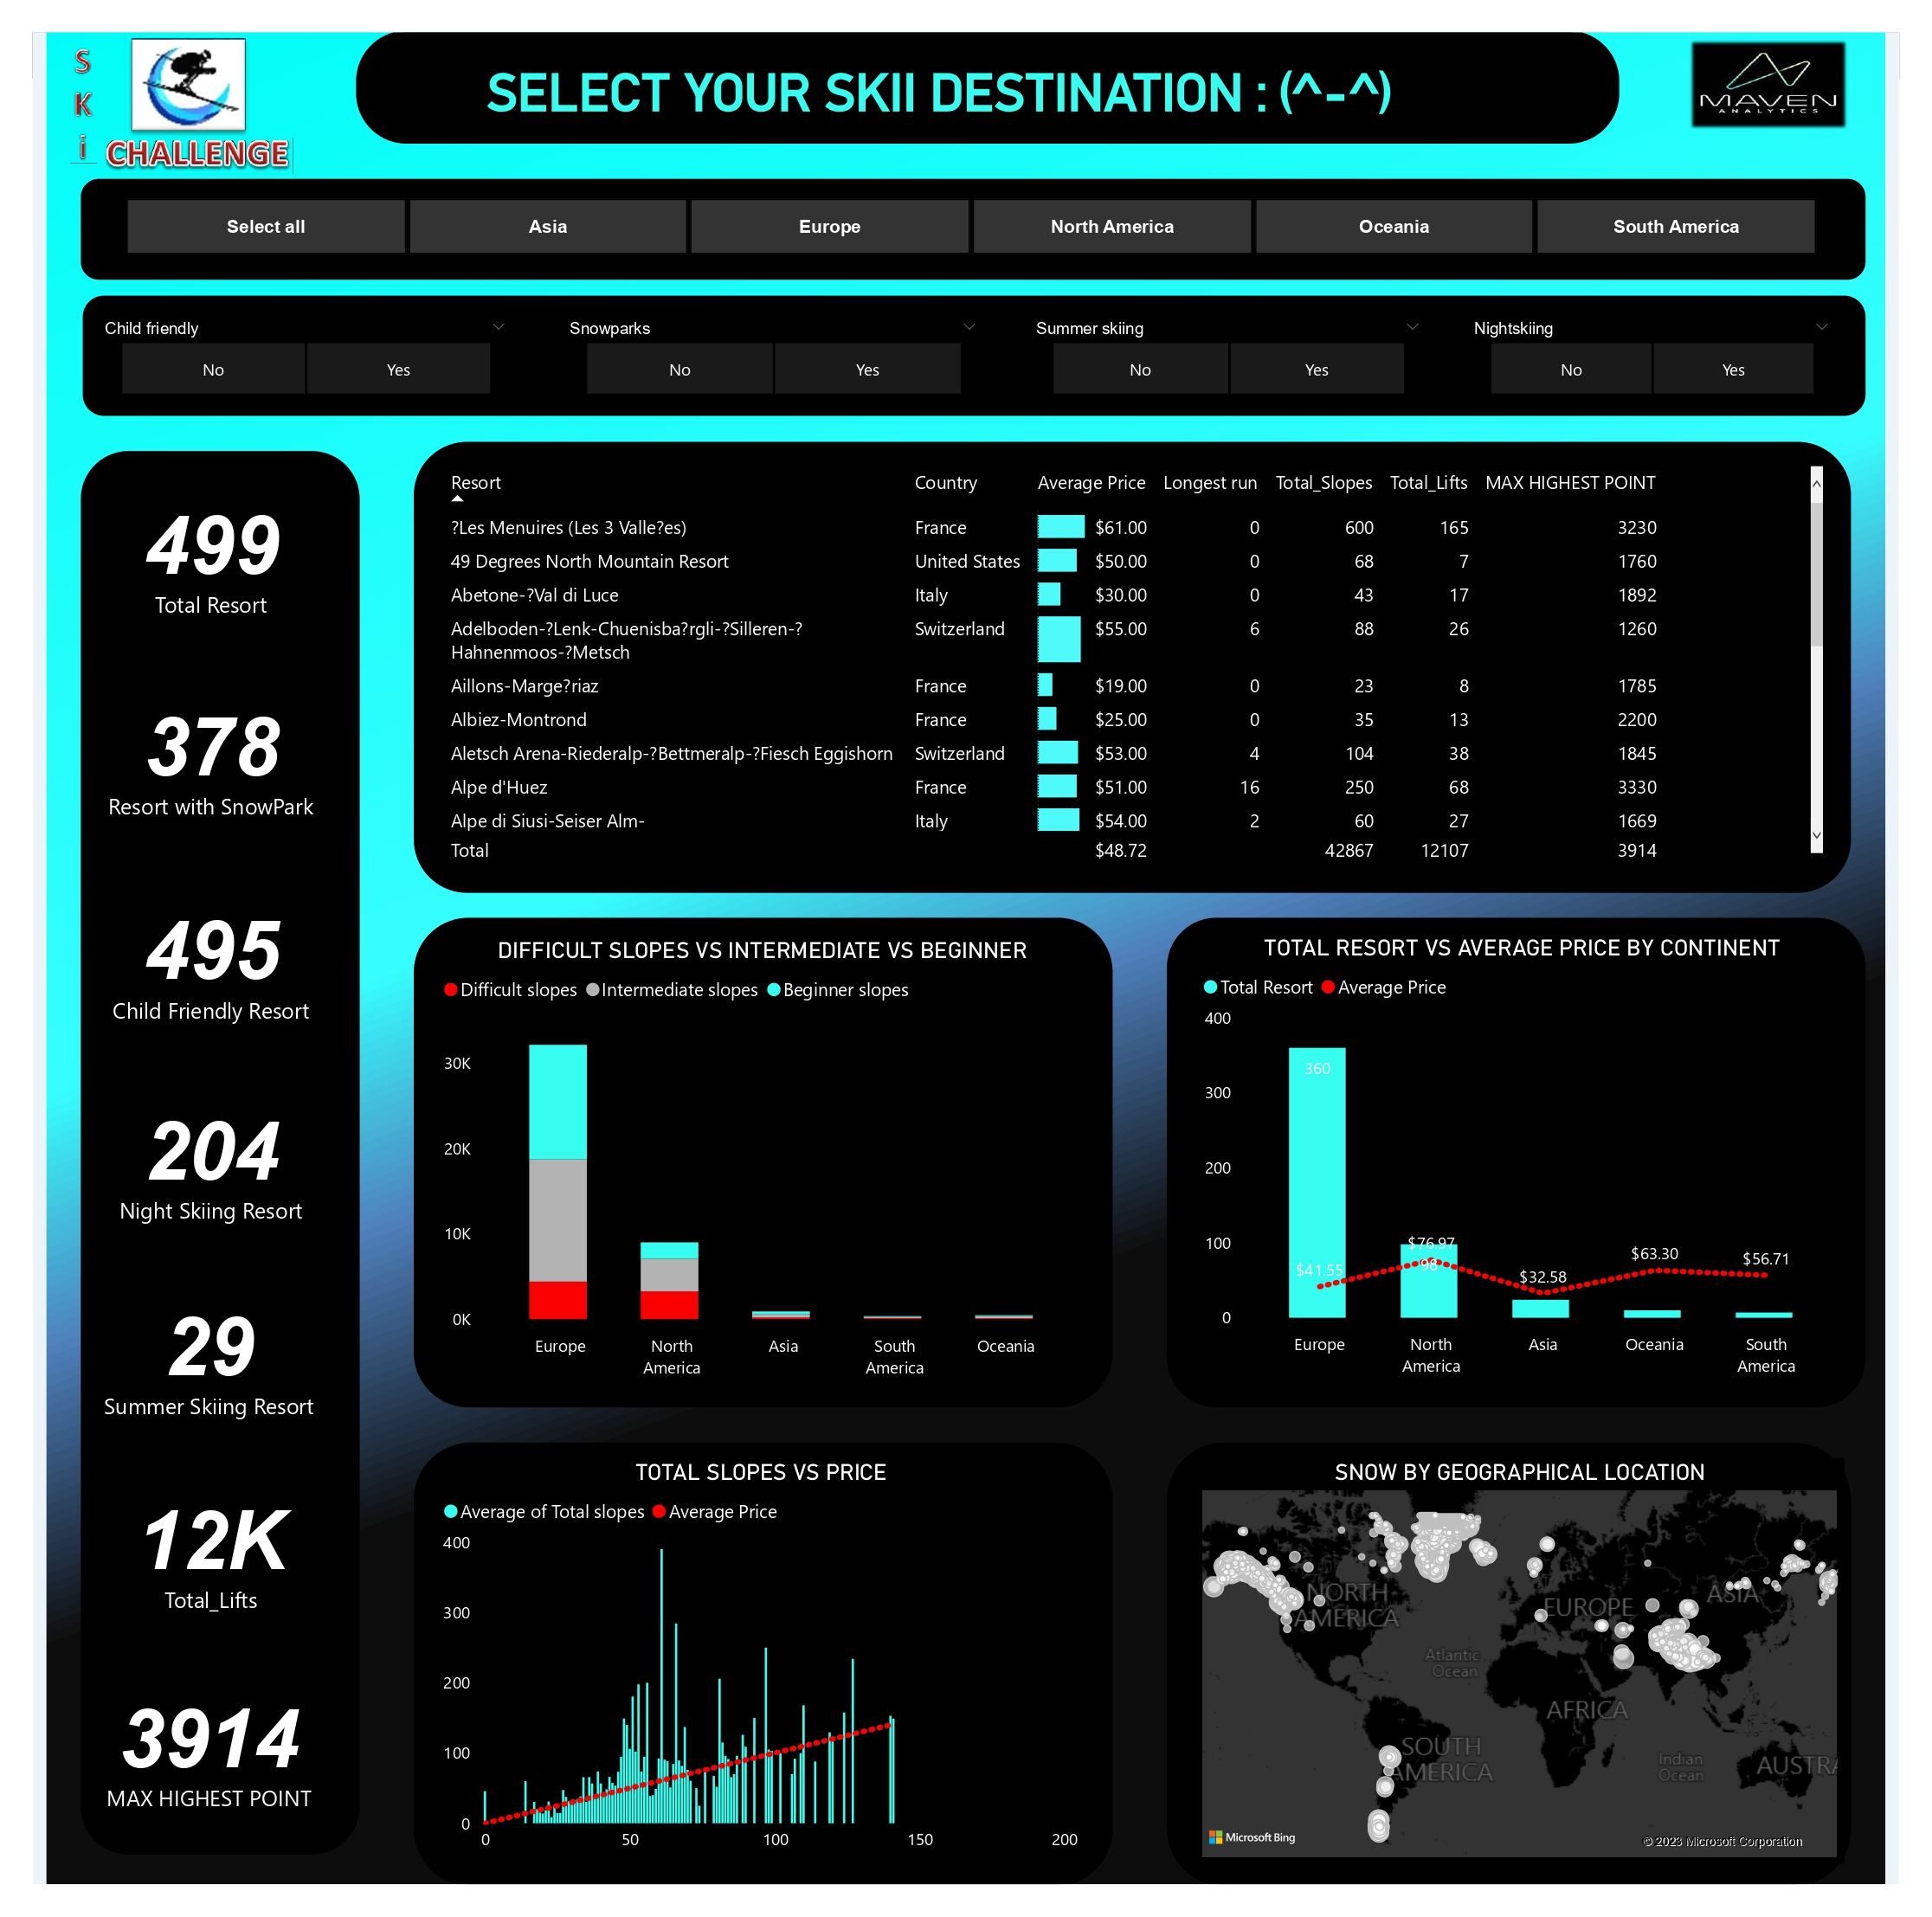

Layout of this report page (visuals, bound fields, positions):
{"tool":"powerbi","page":{"name":"Page 1","canvas":[1380,1370],"ordinal":0},"visuals":[{"type":"map","title":"SNOW BY GEOGRAPHICAL LOCATION","fields":{"Y":["snow.Latitude"],"Size":["Sum(snow.Snow)"],"X":["snow.Longitude"]},"box":[860.3,1055.2,479.3,300],"z":8000},{"type":"card","fields":{"Values":["resorts.Total Resort"]},"box":[42.5,325,177.5,120],"z":9000},{"type":"card","fields":{"Values":["resorts.Resort with SnowPark"]},"box":[42.5,467.5,177.5,132.5],"z":10000},{"type":"card","fields":{"Values":["resorts.Child Friendly Resort"]},"box":[42.5,625,177.5,120],"z":11000},{"type":"card","fields":{"Values":["resorts.Night Skiing Resort"]},"box":[42.5,772.5,177.5,120],"z":12000},{"type":"card","fields":{"Values":["resorts.Summer Skiing Resort"]},"box":[40,917.5,180,120],"z":13000},{"type":"slicer","fields":{"Values":["resorts.Continent"]},"box":[43.1,115.5,1300,55.2],"z":14000},{"type":"card","fields":{"Values":["resorts.Continent Card"]},"box":[248.3,13.8,853.4,53.4],"z":15000},{"type":"card","fields":{"Values":["resorts.Total_Lifts"]},"box":[42.5,1062.5,177.5,117.5],"z":16000},{"type":"slicer","fields":{"Values":["resorts.Nightskiing"]},"box":[1053.4,206.9,287.9,67.2],"z":17000},{"type":"slicer","fields":{"Values":["resorts.Child friendly"]},"box":[39.7,206.9,322.4,67.2],"z":18000},{"type":"slicer","fields":{"Values":["resorts.Snowparks"]},"box":[384.5,206.9,325.9,67.2],"z":19000},{"type":"slicer","fields":{"Values":["resorts.Summer skiing"]},"box":[729.3,206.9,308.6,67.2],"z":20000},{"type":"tableEx","fields":{"Values":["resorts.Resort","resorts.Country","resorts.Average Price","resorts.Longest run","resorts.Total_Slopes","resorts.Total_Lifts","resorts.MAX HIGHEST POINT"]},"box":[298.3,315.5,1031,305.2],"z":21000},{"type":"card","fields":{"Values":["resorts.MAX HIGHEST POINT"]},"box":[40,1207.5,180,120],"z":22000},{"type":"lineStackedColumnComboChart","title":"TOTAL RESORT VS AVERAGE PRICE BY CONTINENT","fields":{"Y2":["resorts.Average Price"],"Category":["resorts.Continent"],"Y":["resorts.Total Resort"]},"box":[860.3,667.2,482.8,334.5],"z":23000},{"type":"lineStackedColumnComboChart","title":"DIFFICULT SLOPES VS INTERMEDIATE VS BEGINNER","fields":{"Category":["resorts.Continent"],"Y":["Sum(resorts.Difficult slopes)","Sum(resorts.Intermediate slopes)","Sum(resorts.Beginner slopes)"]},"box":[298.3,669,482.8,334.5],"z":24000},{"type":"lineStackedColumnComboChart","title":"TOTAL SLOPES VS PRICE","fields":{"Y":["Avg(resorts.Total slopes)"],"Category":["resorts.Price"],"Y2":["resorts.Average Price"]},"box":[298.3,1055.2,481,300],"z":25000}]}

Visuals, with their boxes in screenshot pixels (x1, y1, x2, y2), scaled from the page's 1380x1370 canvas onto the 1932x1917 screenshot:
"SNOW BY GEOGRAPHICAL LOCATION" map: 1204 1476 1876 1896
card - resorts.Total Resort: 60 454 308 622
card - resorts.Resort with SnowPark: 60 654 308 839
card - resorts.Child Friendly Resort: 60 874 308 1043
card - resorts.Night Skiing Resort: 60 1081 308 1249
card - resorts.Summer Skiing Resort: 56 1283 308 1451
slicer - resorts.Continent: 61 162 1880 239
card - resorts.Continent Card: 348 19 1542 94
card - resorts.Total_Lifts: 60 1487 308 1651
slicer - resorts.Nightskiing: 1475 290 1877 383
slicer - resorts.Child friendly: 55 290 507 383
slicer - resorts.Snowparks: 538 290 995 383
slicer - resorts.Summer skiing: 1021 290 1453 383
tableEx - resorts.Resort x resorts.Country: 417 441 1861 869
card - resorts.MAX HIGHEST POINT: 56 1689 308 1857
"TOTAL RESORT VS AVERAGE PRICE BY CONTINENT" lineStackedColumnComboChart: 1204 934 1880 1402
"DIFFICULT SLOPES VS INTERMEDIATE VS BEGINNER" lineStackedColumnComboChart: 417 936 1093 1404
"TOTAL SLOPES VS PRICE" lineStackedColumnComboChart: 417 1476 1091 1896
